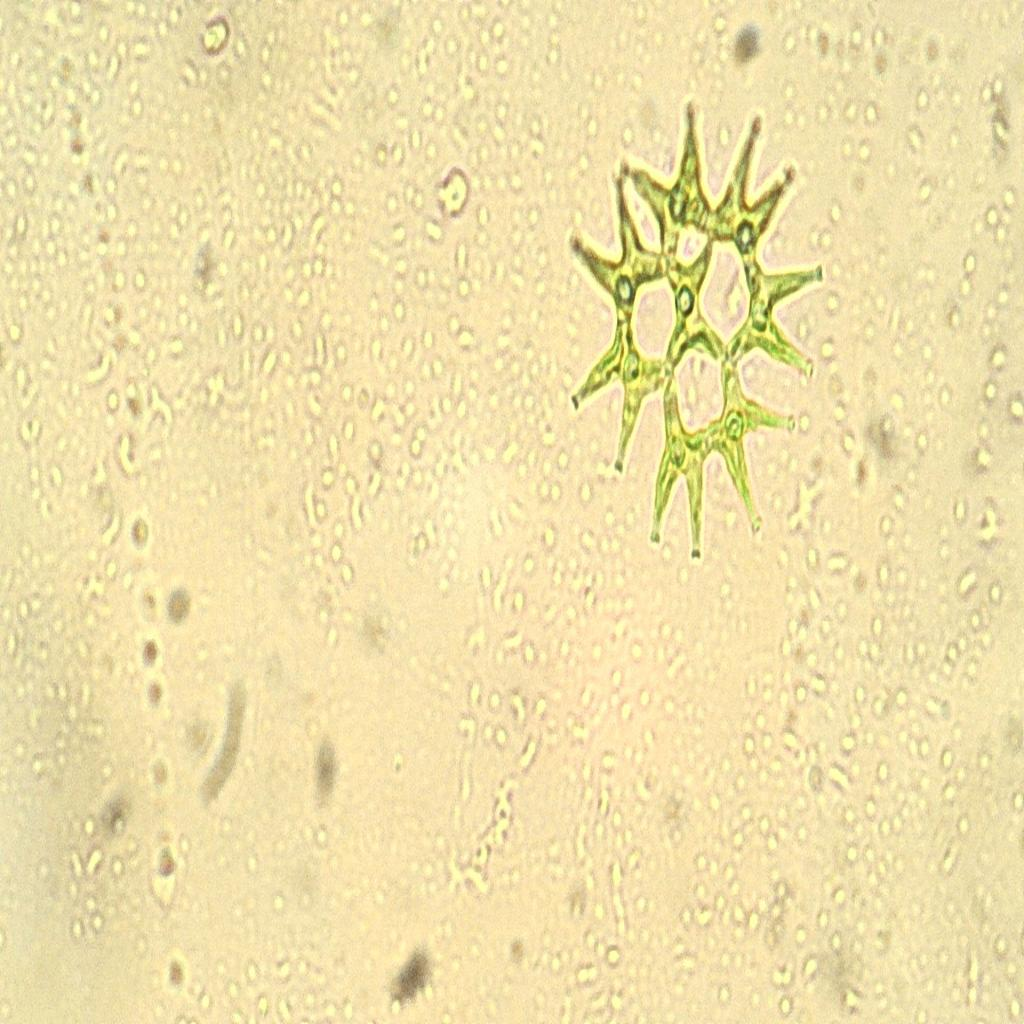Pediastrum_75T: (553, 86, 832, 572)
